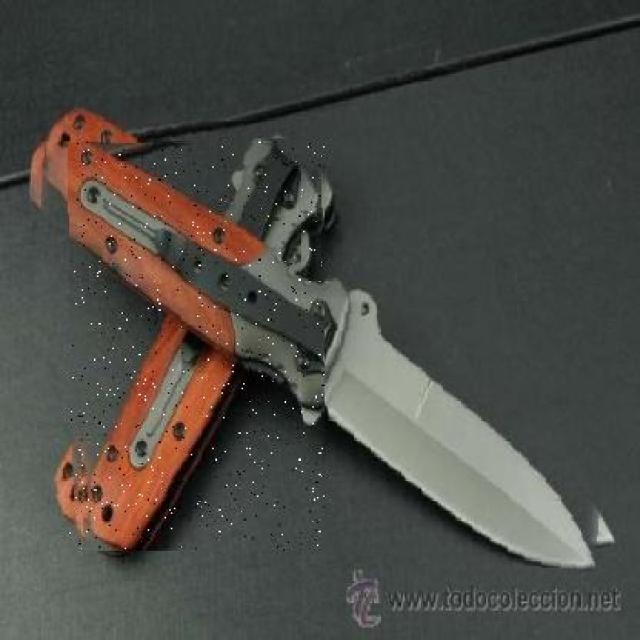knife: (21, 117, 622, 558), (69, 138, 325, 551)
